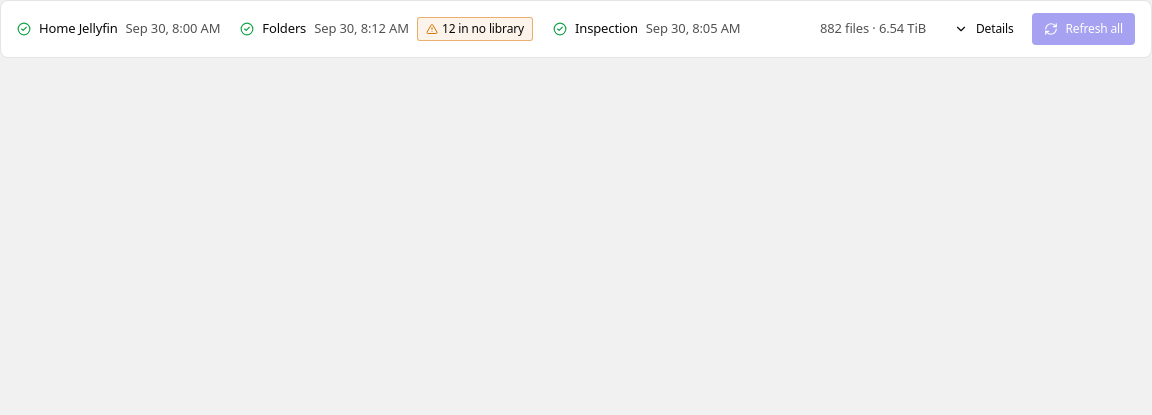
Test: LibrarySyncPanel hashing › says no file needed a hash under a run that listed no file to hash
Click the button "Details" at (984, 29), box [942,13,1026,45]
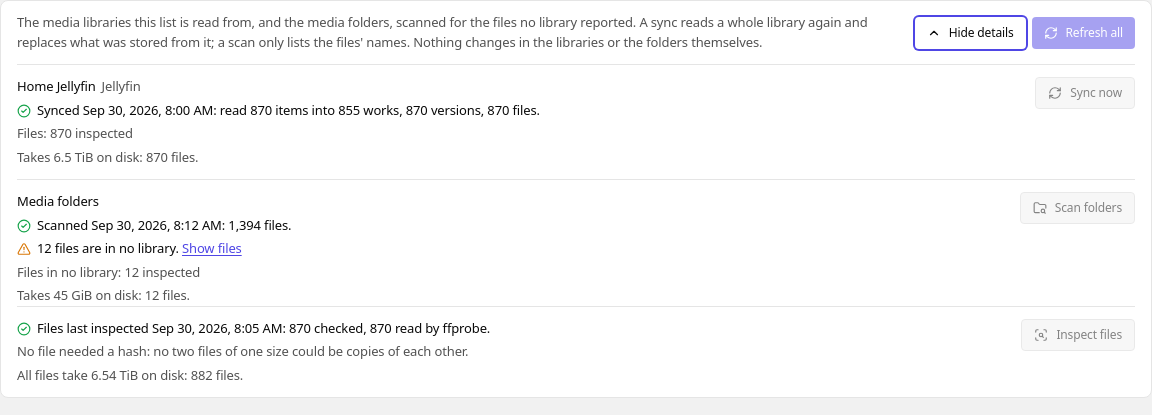
Expected: the text "Home Jellyfin" is shown, [17,77,96,96]
Now the message "Files last inspected Sep 30, 2026, 8:05 AM: 870 checked, 870 read by ffprobe." is shown, box [17,318,490,338]
